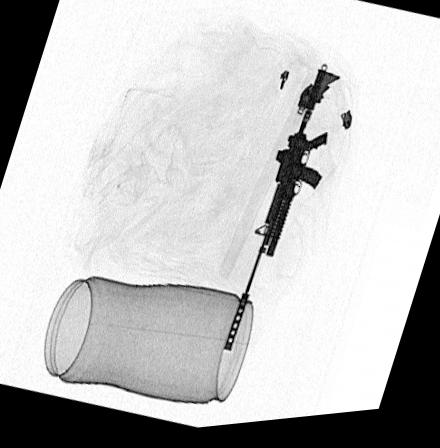Gun: (221, 71, 341, 362)
